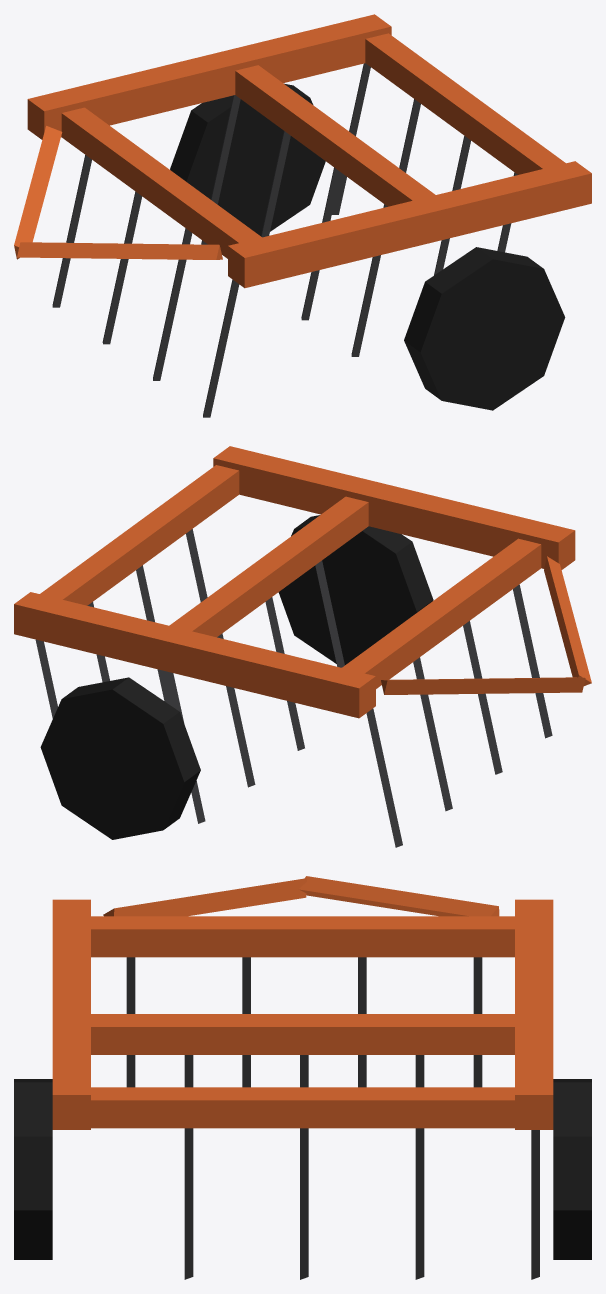
File: cultivator.glb
3 views of the same model, one above another, from view 1: azimuth 30°, elevation 25°; view 2: azimuth 150°, elevation 25°; view 3: azimuth 270°, elevation 25° (orthographic). The views are drawn at different scales.
Visible parts, largest first — view 1: cultivator; view 2: cultivator; view 3: cultivator.
Boxes of the visible parts, x1,y1,x2,y2 form: cultivator: (14,14,591,417); cultivator: (14,446,591,847); cultivator: (14,876,591,1279).
Bounding box in the file's own units: 1.62 × 0.65 × 1.5.
Materials: 1 (1 with a texture image).
